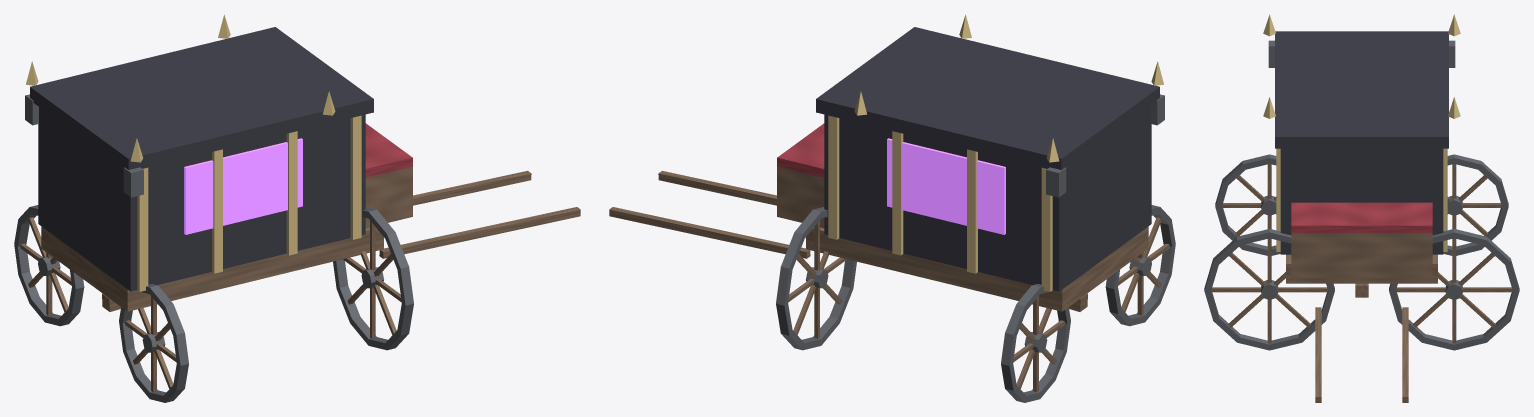
3 renders of one model, left to right at view 1: azimuth 30°, elevation 25°; view 2: azimuth 150°, elevation 25°; view 3: azimuth 270°, elevation 25°, orthographic. The views are drawn at different scales.
Visible parts, largest first — view 1: carriage; view 2: carriage; view 3: carriage.
Boxes of the visible parts, left/top/right/bottom form: carriage: left=14, top=14, right=580, bottom=402; carriage: left=609, top=14, right=1175, bottom=402; carriage: left=1204, top=14, right=1519, bottom=402.
Size of the model in its own units: 4.46 by 2.37 by 2.9.
6 materials, 2 textured.
